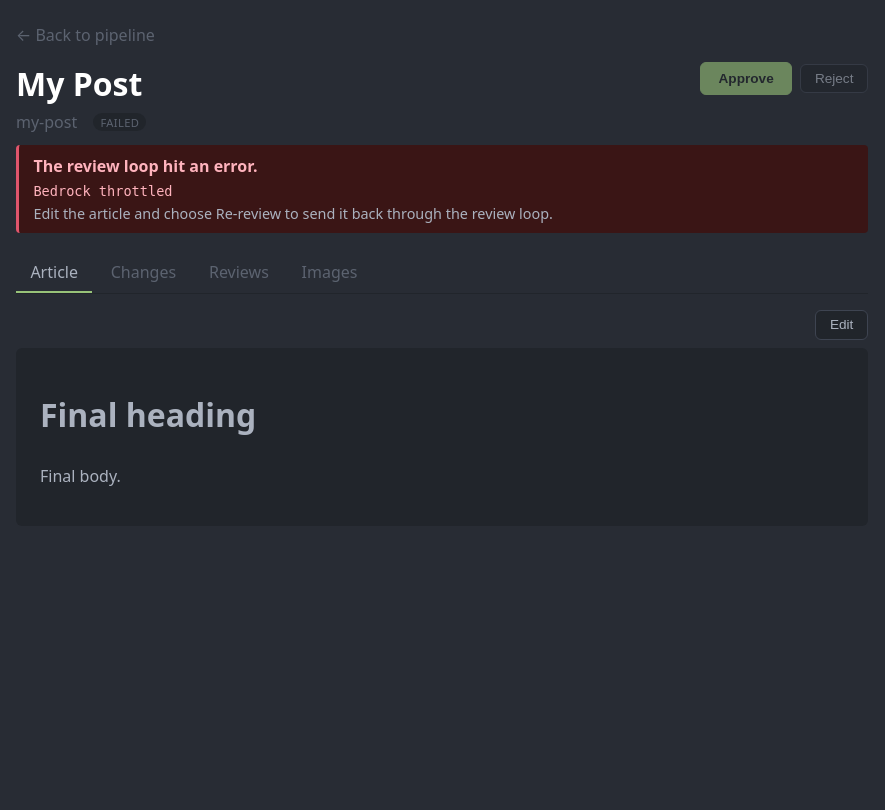
Test: PostDetail — failed posts (PIPE-36) › Edit loads the Markdown, Save stores it and keeps the post failed
This screenshot has width=885, height=810.
Expected: the heading "My Post" is shown, [16,62,146,105]
Click the button "Edit": x=842, y=325 [815,310,868,340]
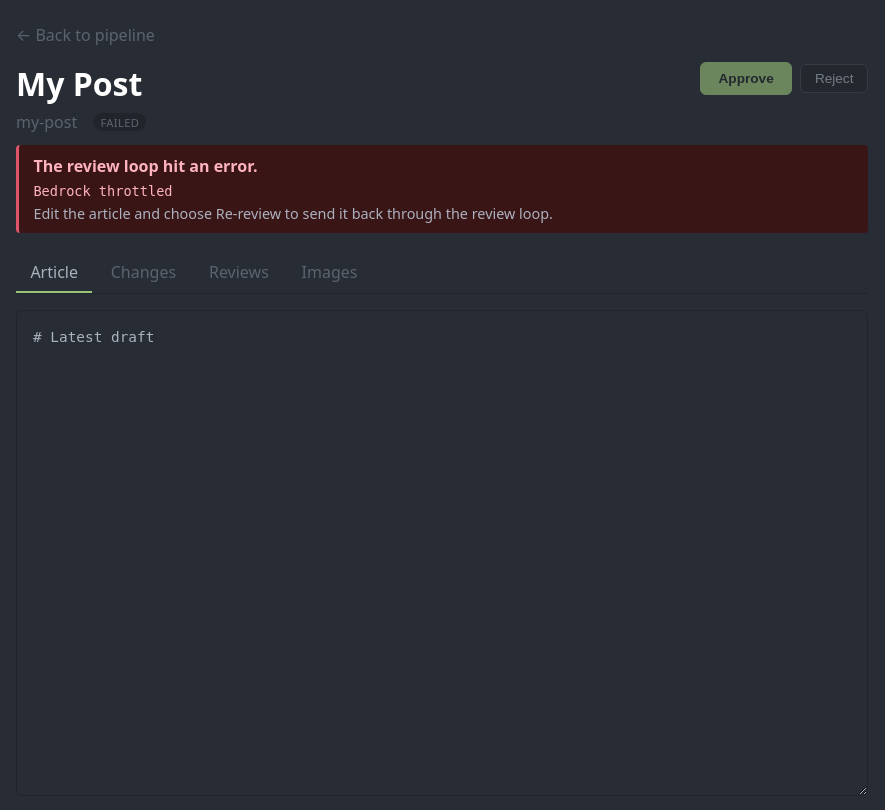
Expected: the text box named "Edit article Markdown" holds "# Latest draft"
Replace the text in the text box named "Edit article Markdown" with "# Fixed": x=442, y=553 [16,310,868,796]
(page scrolled)
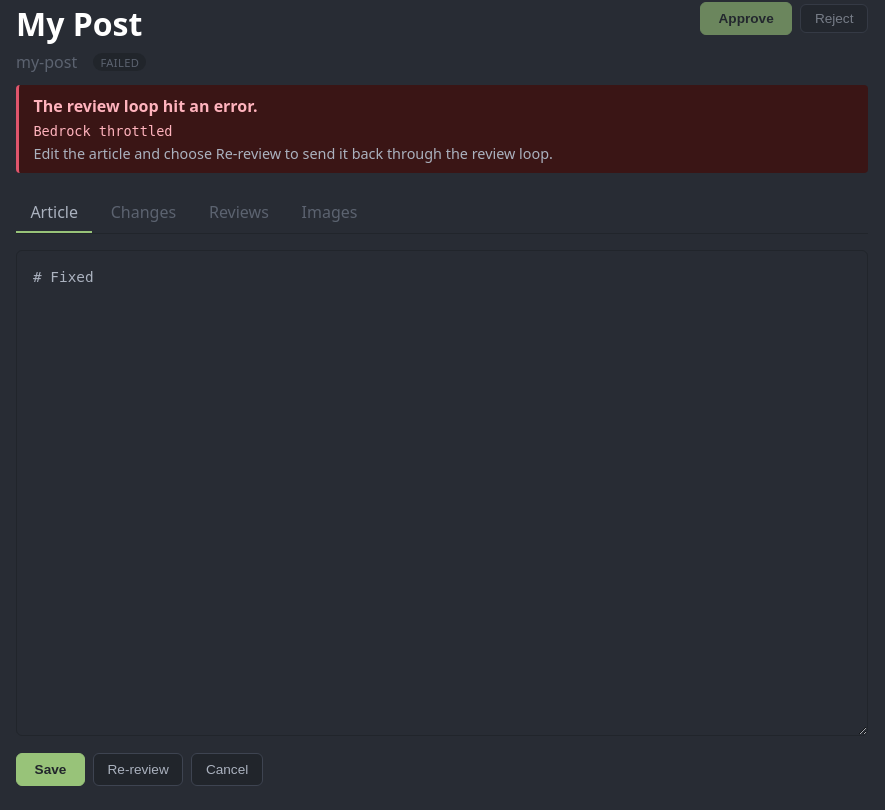
Click the button "Save": x=50, y=769 [16,753,85,786]
(page scrolled)
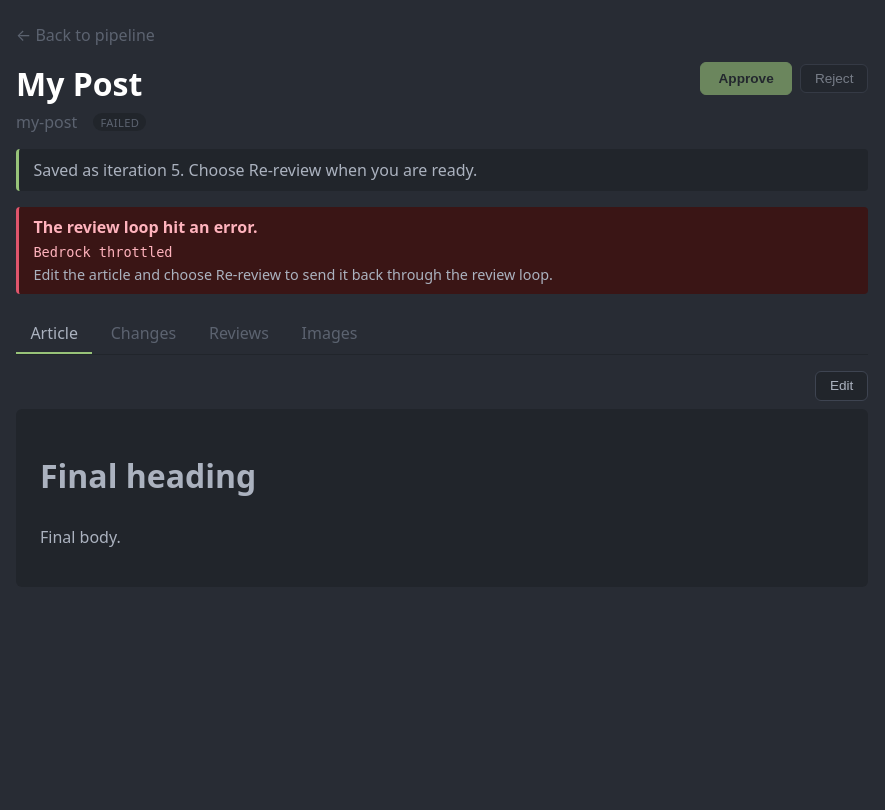
Expected: the text "Saved as iteration 5. Choose Re-review when you are ready." is shown, [16,149,868,191]
